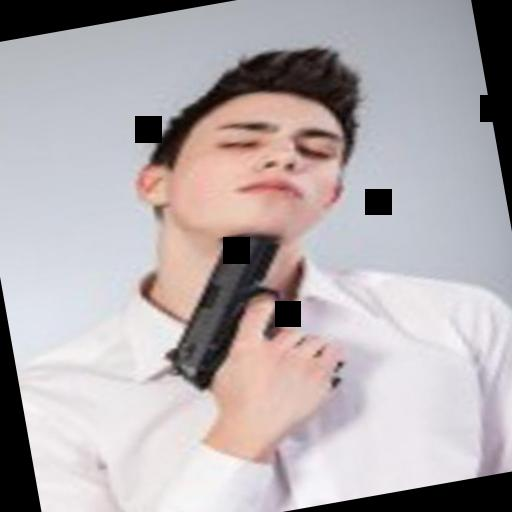Handgun: (139, 212, 354, 424)
